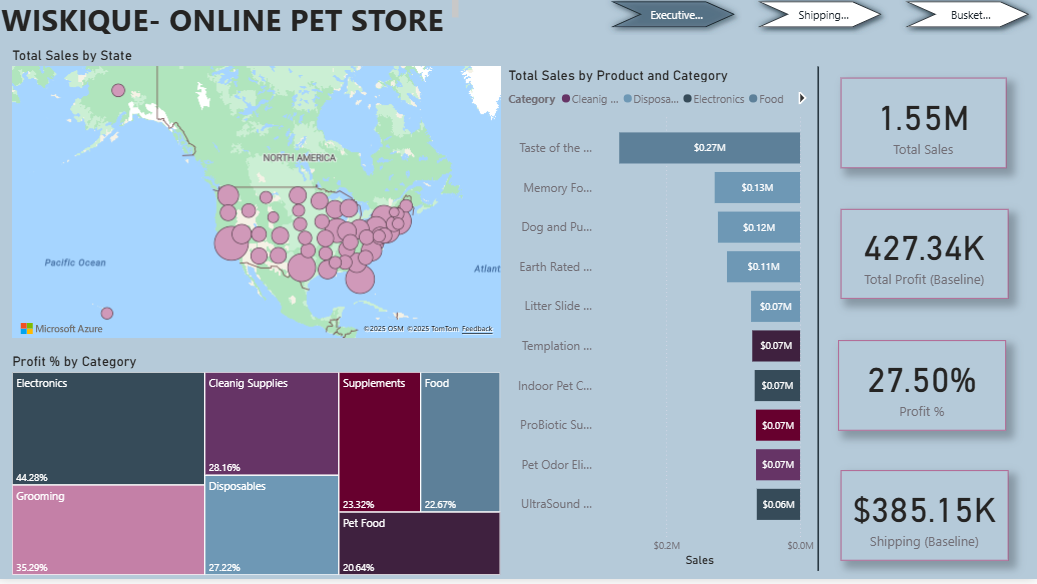

The dashboard page shown, as its layout file describes it:
{"tool":"powerbi","page":{"name":"Executive Summery","canvas":[1280,720],"ordinal":4},"visuals":[{"type":"azureMap","title":"Total  Sales by State","fields":{"value":["Sum(Market Busket.Sales)"],"Category":["state_mapping.State"],"Size":["Sum(Market Busket.Sales)"]},"box":[14,64,611,363],"z":0},{"type":"card","fields":{"Values":["Sum(Market Busket.Sales)"]},"box":[1038.6,102.5,203.8,111.5],"z":1000},{"type":"card","fields":{"Values":["_measure.Profit %"]},"box":[1036,426.8,206.4,111.5],"z":2000},{"type":"card","fields":{"Values":["Sum(Market Busket.Profit (Baseline))"]},"box":[1038.6,265.3,206.4,110.3],"z":3000},{"type":"card","fields":{"Values":["fact_sales.Shipping (Baseline)"]},"box":[1038.6,585.8,206.4,111.5],"z":4000},{"type":"barChart","title":"Total Sales by Product and  Category","fields":{"Category":["fact_sales.Description"],"Y":["Sum(fact_sales.Sales)"],"Series":["dim_products.Category"]},"box":[625,89,386,621],"z":5000},{"type":"shape","box":[919.8,88.9,181.5,621],"z":6000},{"type":"treemap","fields":{"Values":["_measure.Profit %"],"Group":["dim_products.Category","dim_products.Description"]},"box":[13.7,441.9,610.6,278.6],"z":7000},{"type":"pageNavigator","box":[14,0,1266,52],"z":8000}]}

Visuals, with their boxes in screenshot pixels (x1, y1, x2, y2), scaled from the page's 1280x720 canvas onto the 1037x584 screenshot:
"Total  Sales by State" azureMap: [left=11, top=52, right=506, bottom=346]
card - Sum(Market Busket.Sales): [left=841, top=83, right=1007, bottom=174]
card - _measure.Profit %: [left=839, top=346, right=1007, bottom=437]
card - Sum(Market Busket.Profit (Baseline)): [left=841, top=215, right=1009, bottom=305]
card - fact_sales.Shipping (Baseline): [left=841, top=475, right=1009, bottom=566]
"Total Sales by Product and  Category" barChart: [left=506, top=72, right=819, bottom=576]
shape: [left=745, top=72, right=892, bottom=576]
treemap - _measure.Profit % x dim_products.Category: [left=11, top=358, right=506, bottom=583]
pageNavigator: [left=11, top=0, right=1036, bottom=42]
